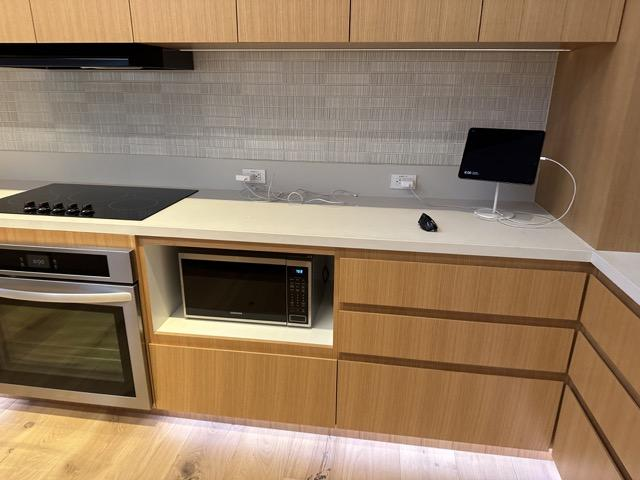Sunglasses: (418, 211, 439, 235)
